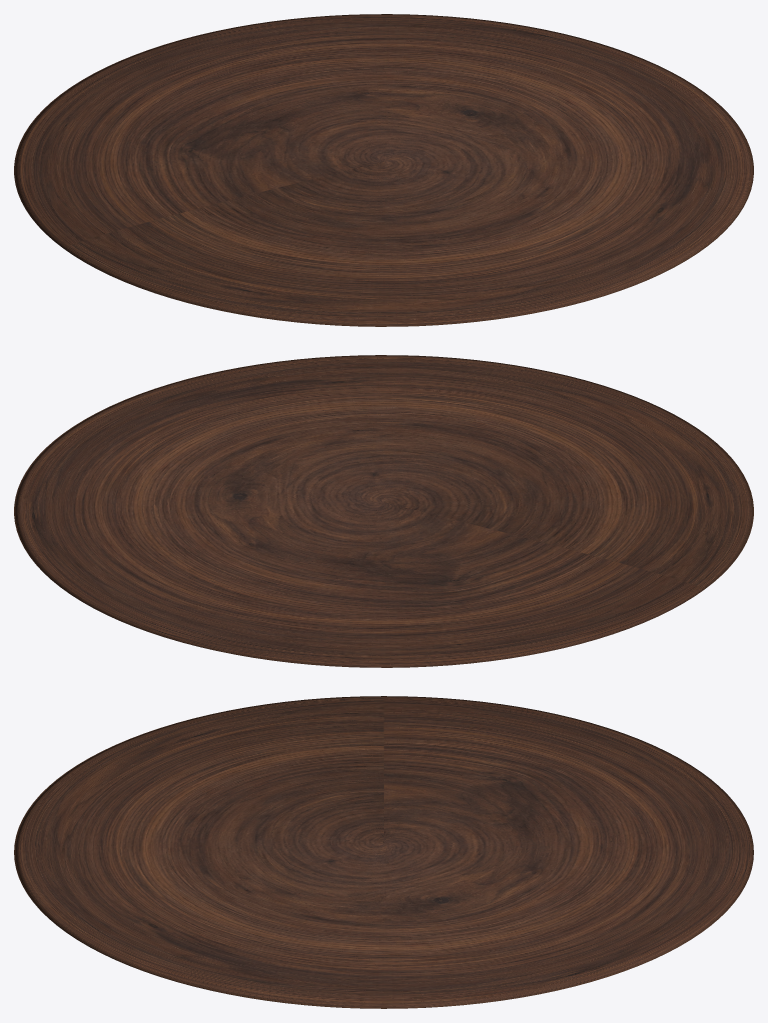
The model's file is orionNogal.glb.
3 views of the same model, one above another, from view 1: azimuth 30°, elevation 25°; view 2: azimuth 150°, elevation 25°; view 3: azimuth 270°, elevation 25° (orthographic).
Visible parts, largest first — view 1: Sphere; view 2: Sphere; view 3: Sphere.
Part boxes in pixels (bbox=[...]): Sphere: bbox=[14, 14, 753, 326]; Sphere: bbox=[14, 355, 753, 667]; Sphere: bbox=[14, 696, 753, 1008].
Bounding box in the file's own units: 3.68 × 0.099 × 3.68.
1 material, 1 textured.
